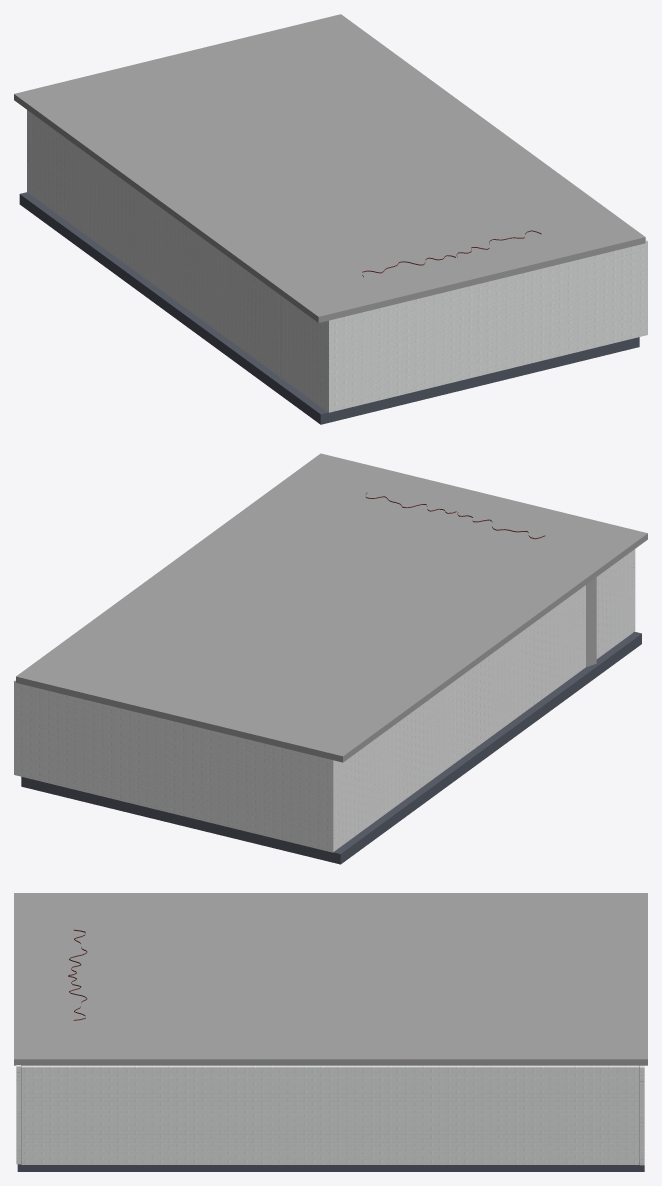
Rendered from Cenario.fbx.
3 views of the same model, one above another, from view 1: azimuth 30°, elevation 25°; view 2: azimuth 150°, elevation 25°; view 3: azimuth 270°, elevation 25° (orthographic). The views are drawn at different scales.
Parts seen in each view (by area): view 1: Tecto, ParedesEstudio, Chao; view 2: Tecto, ParedesEstudio, Chao, Pilar2; view 3: Tecto, ParedesEstudio, Chao.
Part boxes in pixels (box(x1,y1,x2,y2)): Tecto: box(14, 14, 645, 322); ParedesEstudio: box(27, 110, 647, 412); Chao: box(19, 192, 639, 424); Tecto: box(16, 453, 647, 762); ParedesEstudio: box(14, 549, 635, 852); Chao: box(21, 631, 641, 864); Pilar2: box(586, 577, 596, 667); Tecto: box(14, 893, 647, 1065); ParedesEstudio: box(16, 1065, 644, 1165); Chao: box(17, 1066, 644, 1171).
Bounding box in the file's own units: 1658 × 589 × 2646.
Materials: 10 (3 with a texture image).
